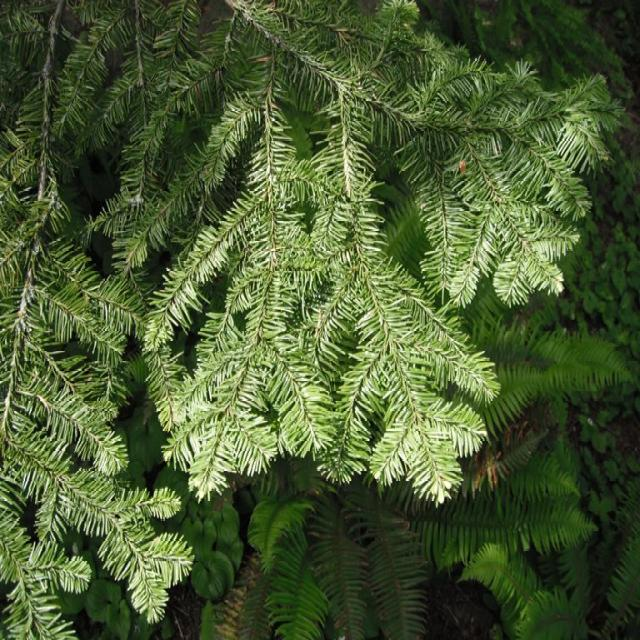Abies: (130, 74, 616, 503)
